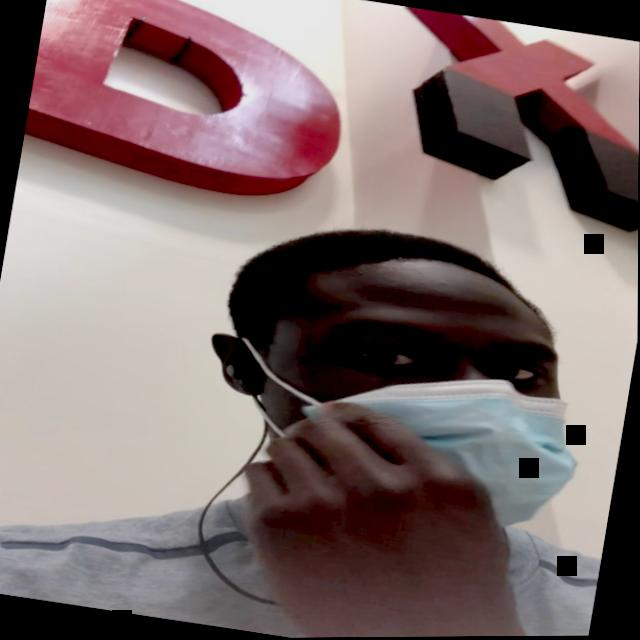Mask: (221, 260, 604, 543)
